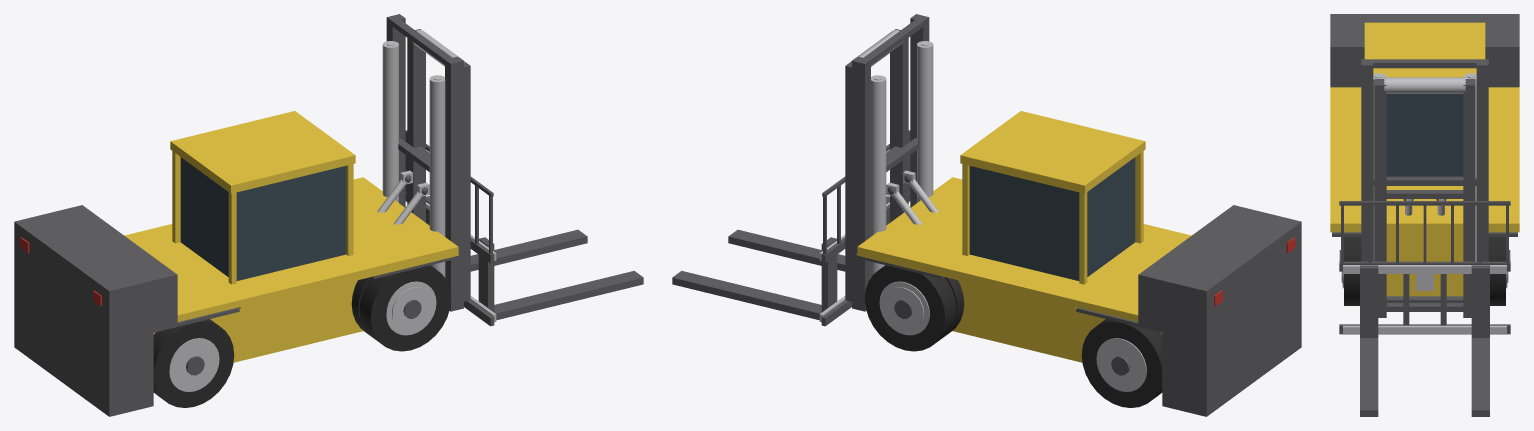
File: SM_HeavyForklift16t.fbx
3 renders of one model, left to right at view 1: azimuth 30°, elevation 25°; view 2: azimuth 150°, elevation 25°; view 3: azimuth 270°, elevation 25°, orthographic.
Parts seen in each view (by area): view 1: HF_Body, HF_MastOuter, HF_Wheel_RR, HF_Wheel_FR, HF_MastInner, HF_Fork_R, HF_Fork_L, HF_Carriage; view 2: HF_Body, HF_MastOuter, HF_Wheel_RL, HF_Wheel_FL, HF_MastInner, HF_Fork_L, HF_Fork_R, HF_Carriage; view 3: HF_Body, HF_MastInner, HF_MastOuter, HF_Carriage, HF_Fork_L, HF_Fork_R, HF_SideShift, HF_Wheel_FL, HF_Wheel_FR.
Boxes of the visible parts, bbox=[...] form: HF_Body: bbox=[14, 111, 460, 416]; HF_MastOuter: bbox=[382, 14, 463, 311]; HF_Wheel_RR: bbox=[153, 319, 234, 407]; HF_Wheel_FR: bbox=[359, 265, 451, 351]; HF_MastInner: bbox=[387, 29, 470, 301]; HF_Fork_R: bbox=[478, 237, 643, 320]; HF_Fork_L: bbox=[426, 196, 587, 271]; HF_Carriage: bbox=[405, 130, 494, 326]; HF_Body: bbox=[855, 111, 1301, 416]; HF_MastOuter: bbox=[852, 14, 933, 311]; HF_Wheel_RL: bbox=[1081, 319, 1162, 407]; HF_Wheel_FL: bbox=[864, 265, 956, 351]; HF_MastInner: bbox=[845, 29, 928, 301]; HF_Fork_L: bbox=[672, 237, 837, 320]; HF_Fork_R: bbox=[728, 196, 889, 271]; HF_Carriage: bbox=[821, 130, 910, 326]; HF_Body: bbox=[1330, 14, 1519, 296]; HF_MastInner: bbox=[1374, 74, 1475, 317]; HF_MastOuter: bbox=[1361, 59, 1488, 302]; HF_Carriage: bbox=[1339, 201, 1510, 334]; HF_Fork_L: bbox=[1471, 265, 1489, 416]; HF_Fork_R: bbox=[1360, 265, 1378, 416]; HF_SideShift: bbox=[1343, 265, 1506, 334]; HF_Wheel_FL: bbox=[1488, 237, 1510, 305]; HF_Wheel_FR: bbox=[1339, 237, 1361, 305].
Bounding box in the file's own units: 848 × 394 × 254.
